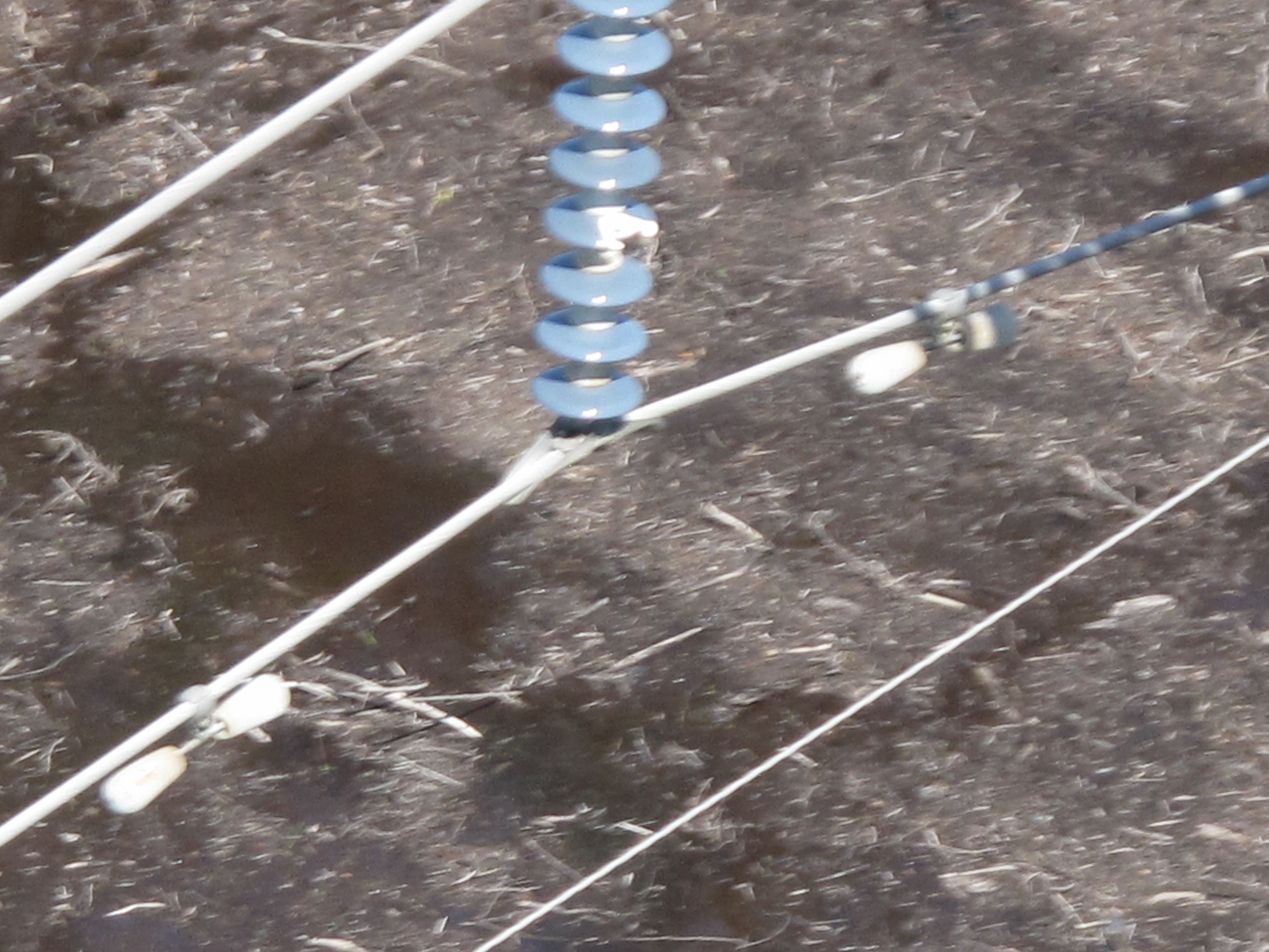damaged: (584, 205, 660, 256)
hammer: (95, 669, 291, 821), (842, 293, 1016, 396)
insulator: (531, 0, 676, 426)
